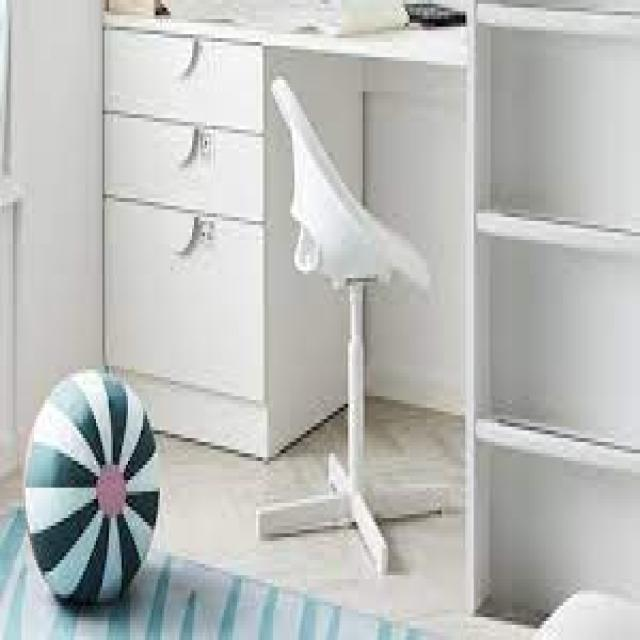chair: (217, 54, 469, 628)
